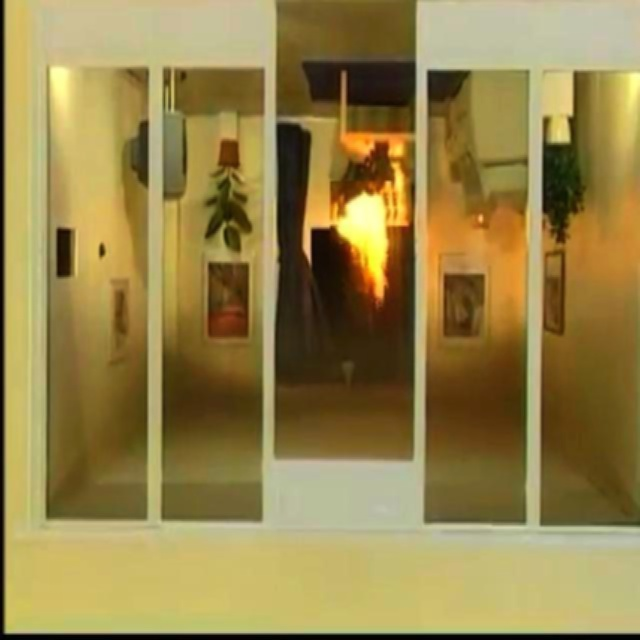fire: (327, 188, 407, 311)
